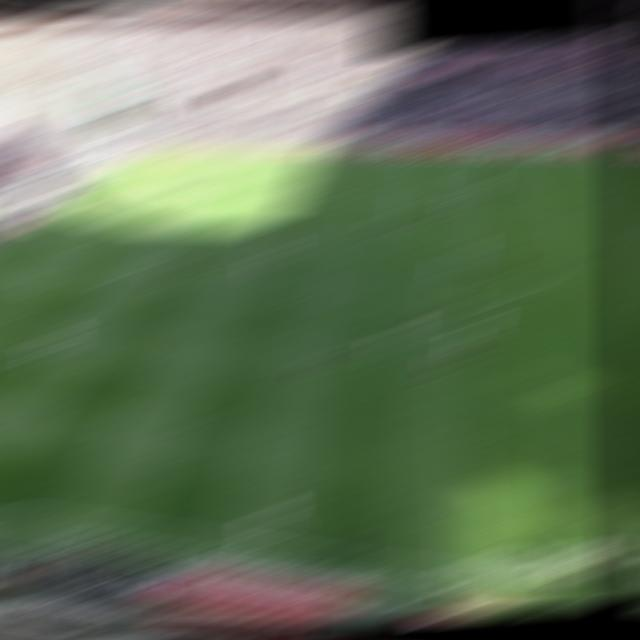bigarea_bottom_inner: (20, 358, 55, 363)
bigarea_top_inner: (181, 181, 216, 187)
bigarea_top_outter: (82, 181, 118, 186)
bottom_arc_area_intersection: (90, 276, 125, 281)
corner: (122, 151, 157, 156)
halfcircle_bottom: (436, 305, 472, 310)
halfcircle_top: (431, 218, 467, 224)
midline_bottom_intersection: (444, 570, 492, 586)
midline_top_intersection: (427, 151, 463, 157)
smallarea_bottom_inner: (0, 283, 28, 288)
smallarea_top_outter: (42, 212, 77, 217)
top_arc_area_intersection: (145, 217, 180, 223)
